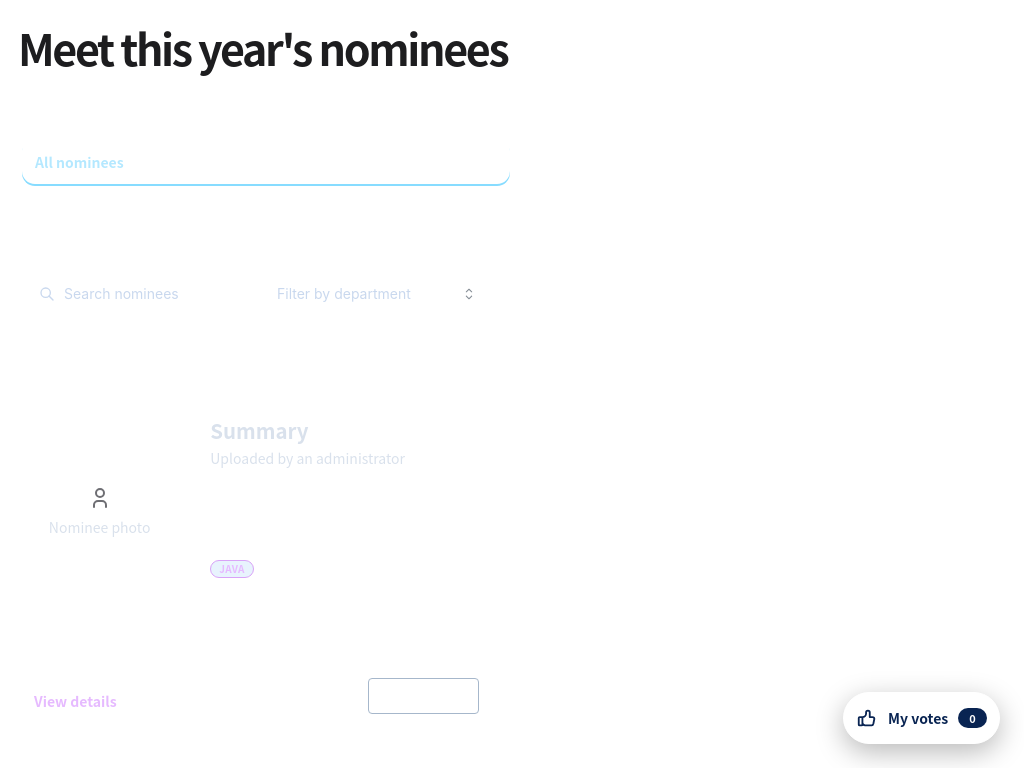
ProjectShowcase › retains the entire cart when submission fails: Each participant can cast at most 4 votes per award category.
The width and height of the screenshot is (1024, 768).
Click the button with aria-label "Vote, 2 votes".
click(424, 696)  # box [368, 678, 479, 714]
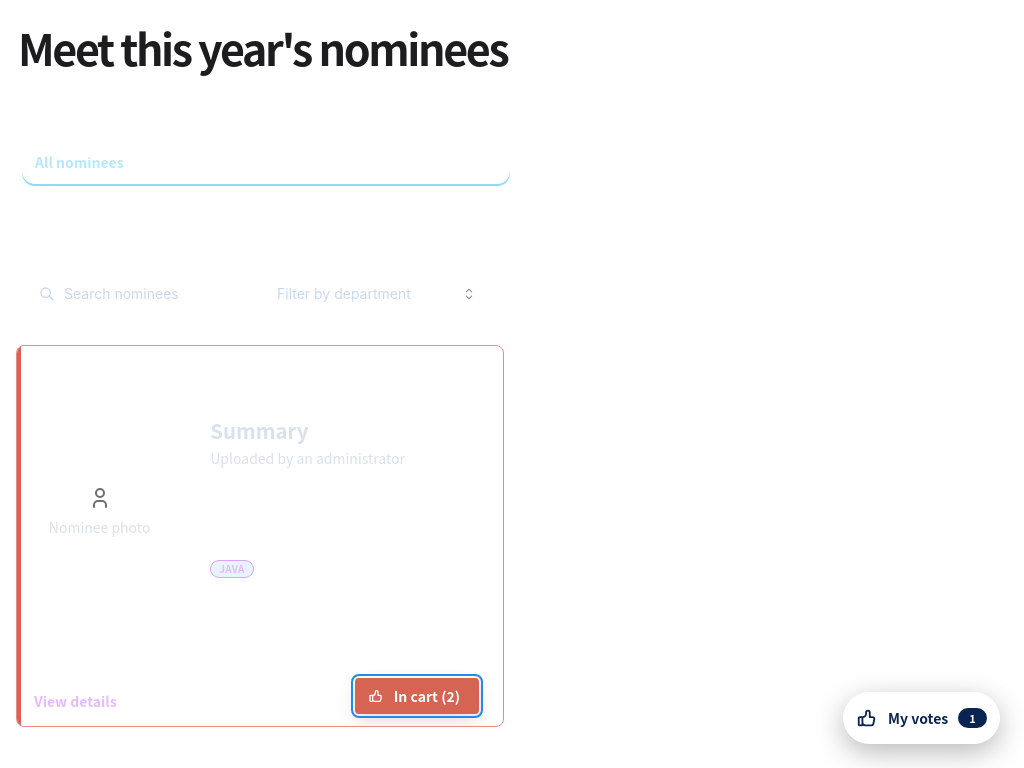
Click the button with aria-label "My votes (1)".
click(922, 718)  # box [843, 692, 1000, 744]
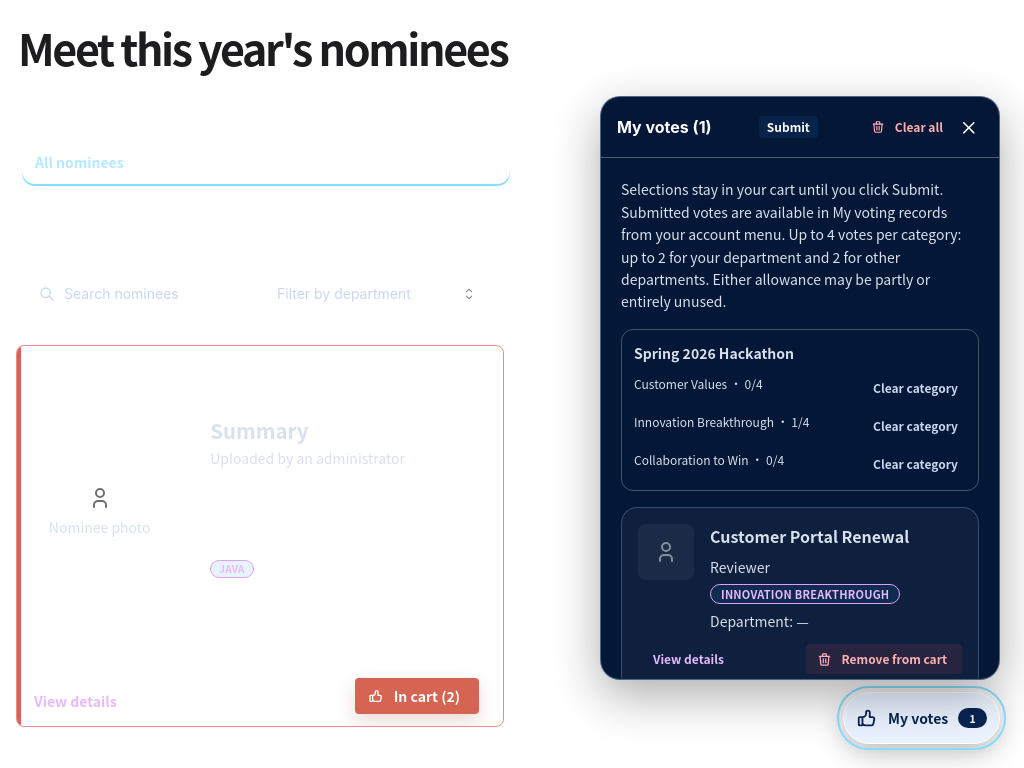
Click the button "Submit".
click(788, 127)  # box [759, 116, 818, 138]
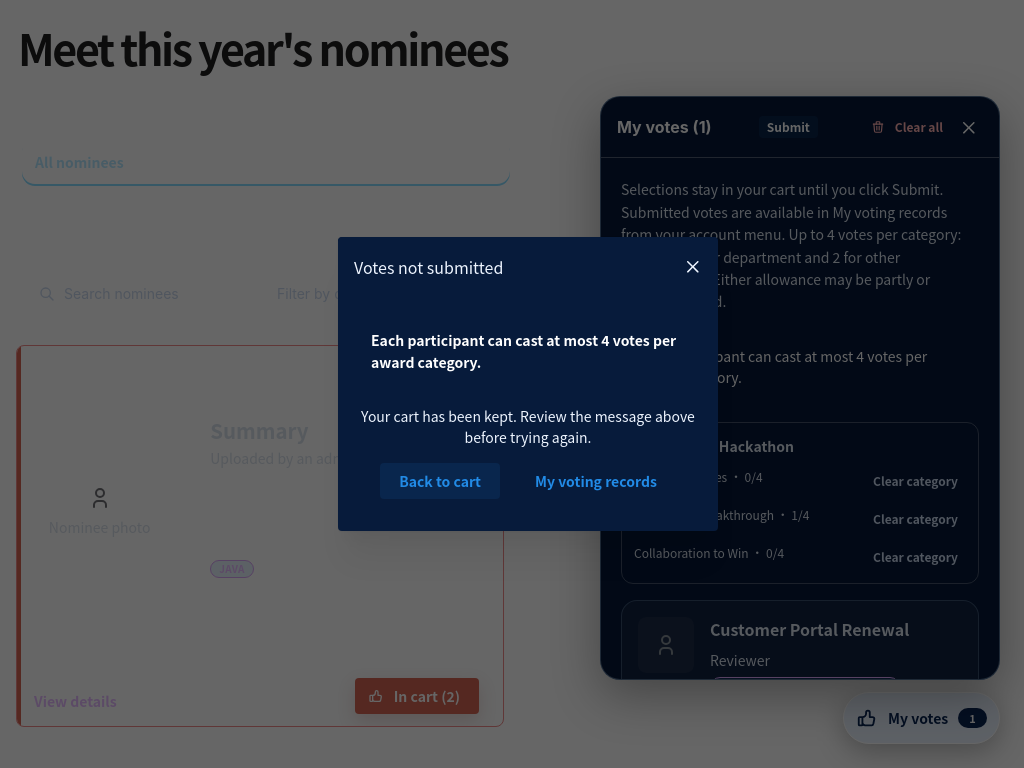
Check: the message reads "Each participant can cast at most 4 votes per award category.", box [371, 330, 676, 372]
Click the button "Back to cart".
click(440, 481)  # box [380, 463, 500, 499]
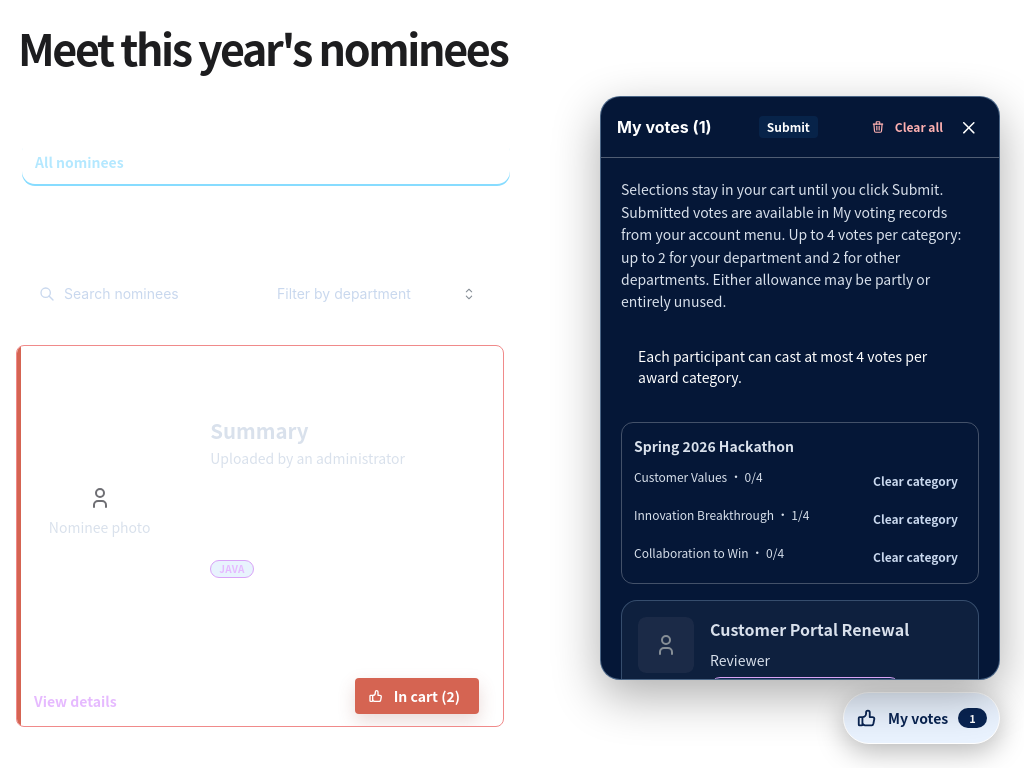
Check: the text "Customer Portal Renewal" is shown, box [710, 617, 909, 641]
Check: the button "Submit" is enabled
Check: the heading "Votes not submitted" is gone
Click the button "Submit".
click(788, 127)  # box [759, 116, 818, 138]
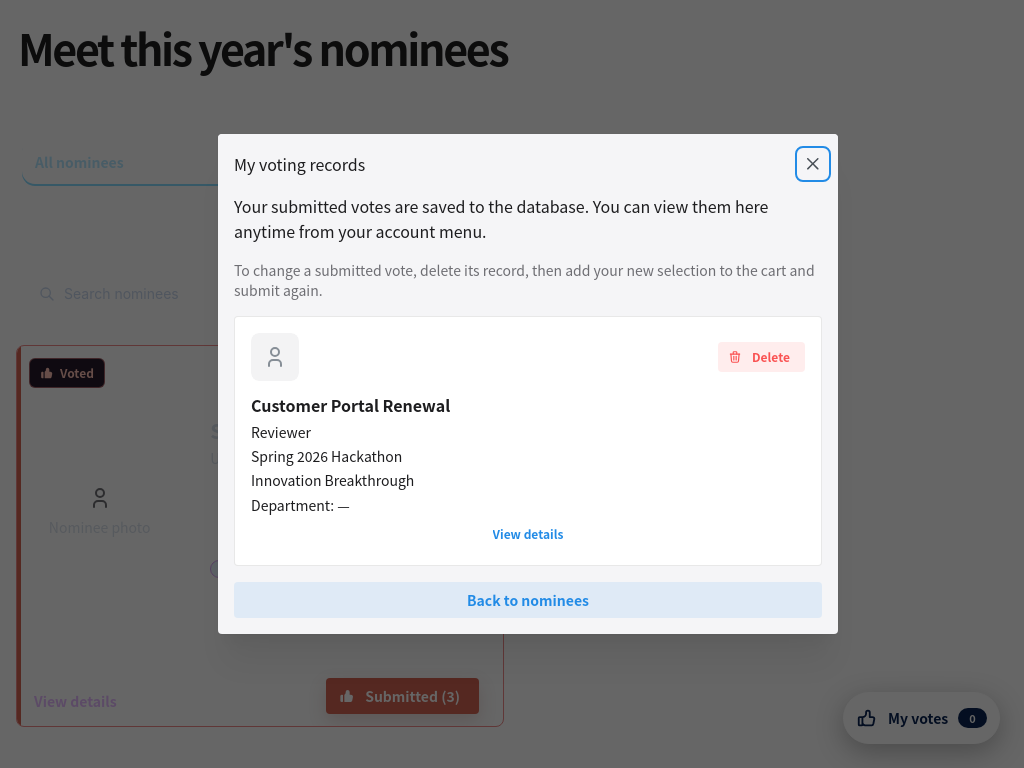
Check: the dialog "My voting records" is shown, box [218, 134, 838, 634]
